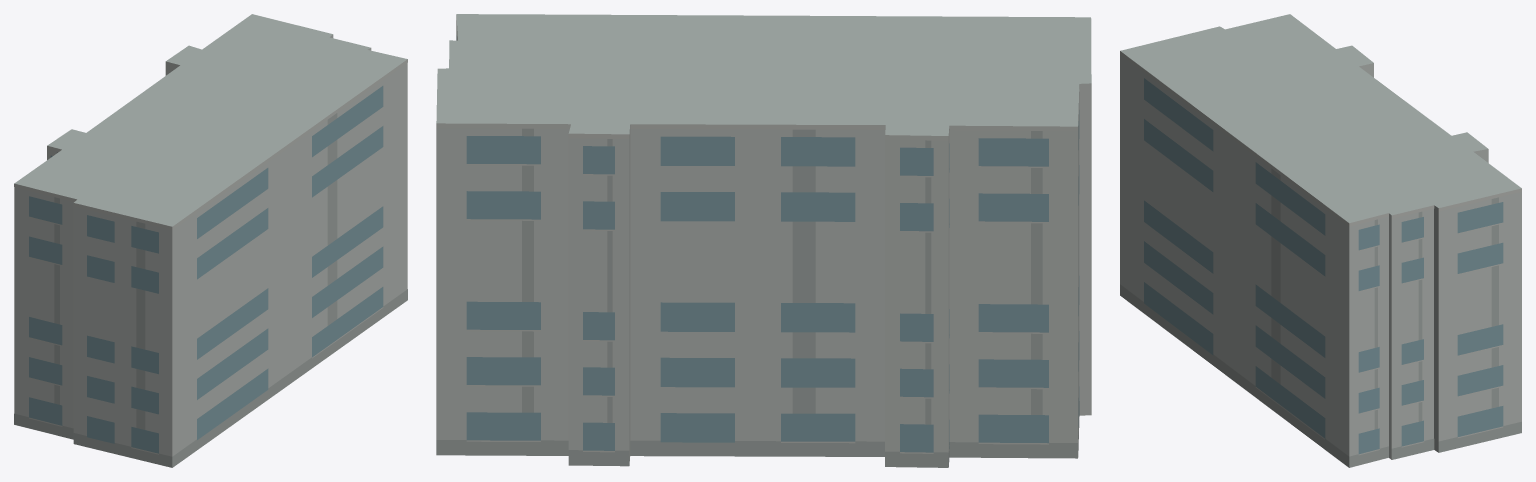
Rendered from survey-upis-32988845.glb.
3 views of the same model, side by side, from view 1: azimuth 30°, elevation 25°; view 2: azimuth 150°, elevation 25°; view 3: azimuth 270°, elevation 25° (orthographic). The views are drawn at different scales.
Parts seen in each view (by area): view 1: survey-upis-32988845.tmp; view 2: survey-upis-32988845.tmp; view 3: survey-upis-32988845.tmp.
Part boxes in pixels (x1,y1,x2,y2): survey-upis-32988845.tmp: [14, 14, 407, 467]; survey-upis-32988845.tmp: [436, 14, 1091, 467]; survey-upis-32988845.tmp: [1120, 14, 1521, 467].
Size of the model in its own units: 31.19 by 17 by 25.31.
